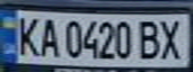0: (115, 18, 136, 61), (60, 17, 81, 60)
2: (97, 18, 118, 61)
4: (81, 17, 100, 60)
A: (36, 15, 60, 58)
B: (136, 17, 163, 61)
K: (12, 12, 42, 57)
X: (154, 16, 190, 61)
